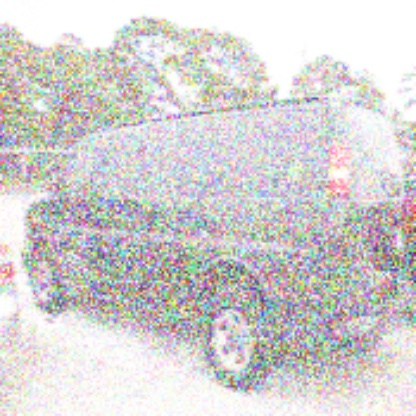Vehicle: (20, 102, 414, 396)
